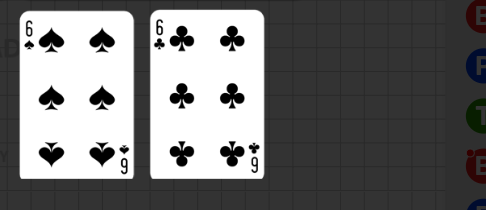6C: (246, 140, 260, 175)
6S: (117, 142, 130, 175)
